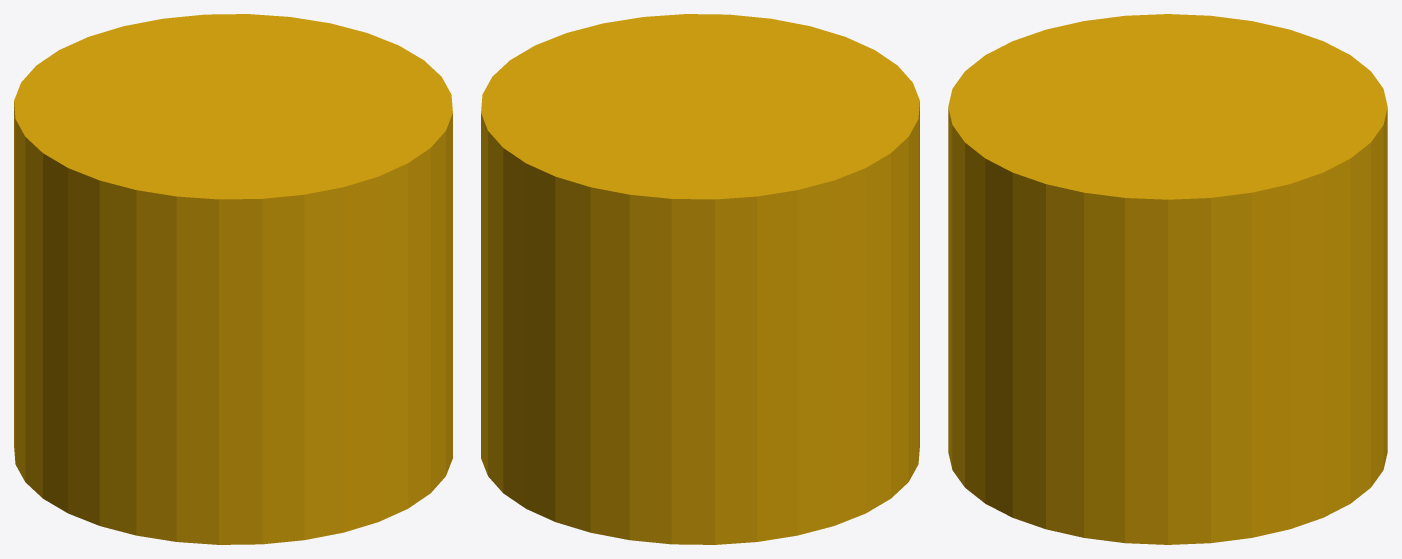
Rendered from cup_yellow.dae.
3 renders of one model, left to right at view 1: azimuth 30°, elevation 25°; view 2: azimuth 150°, elevation 25°; view 3: azimuth 270°, elevation 25°, orthographic.
Parts seen in each view (by area): view 1: Cylinder; view 2: Cylinder; view 3: Cylinder.
Boxes of the visible parts, x1,y1,x2,y2 form: Cylinder: (14,14,452,544); Cylinder: (481,14,919,544); Cylinder: (948,14,1387,544).
Bounding box in the file's own units: 0.09 × 0.09 × 0.078.
